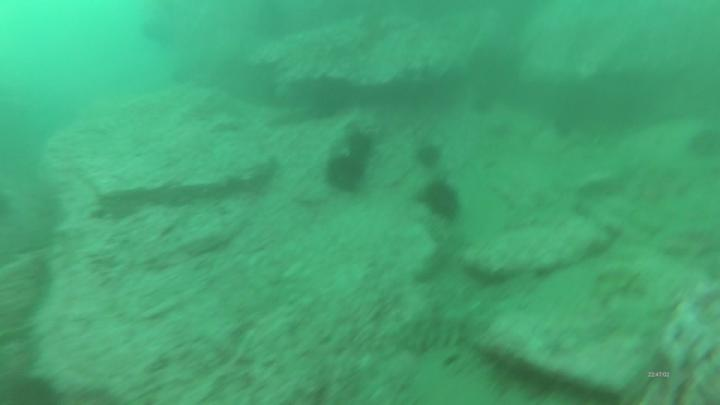echinus: (420, 178, 463, 221), (324, 154, 369, 195), (6, 374, 61, 405), (345, 130, 379, 163), (414, 140, 445, 170)
